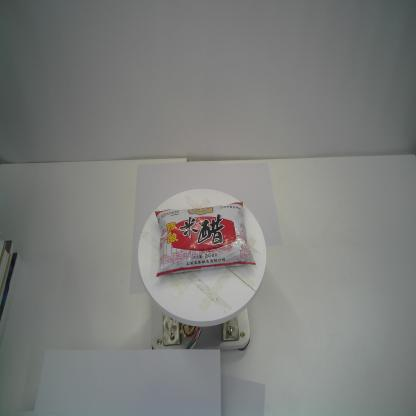Seasoner: (152, 196, 256, 278)
